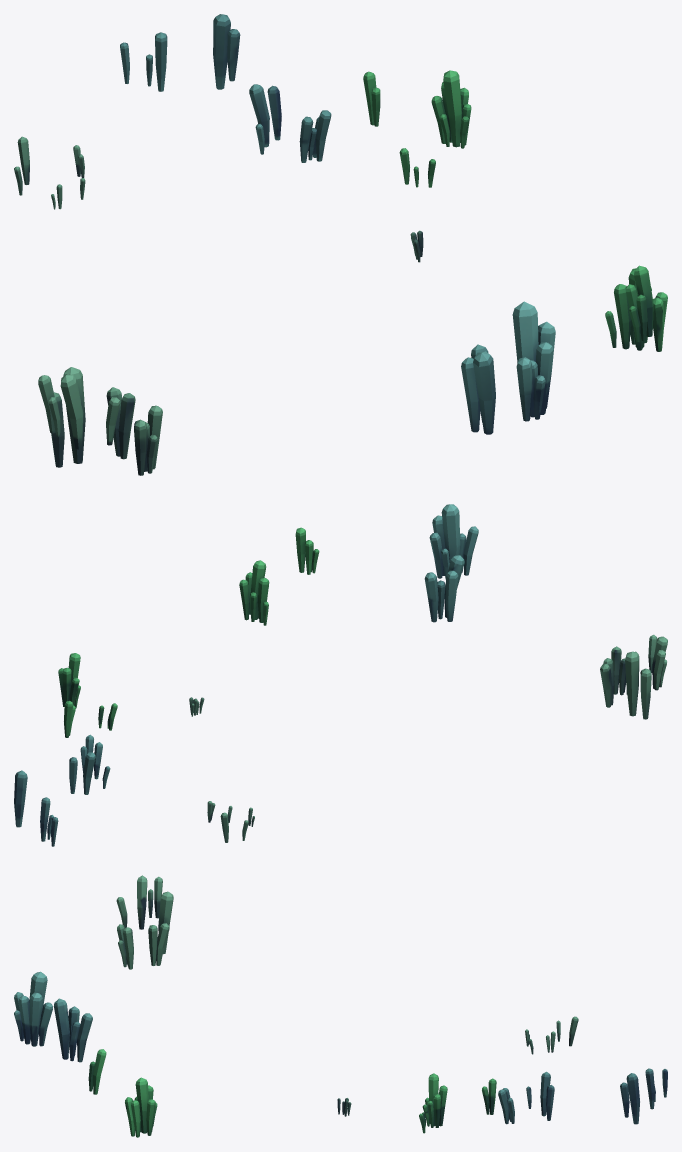
Rendered from Plant_02.FBX.
The picture shows the model from 3 angles, top to bottom: view 1: azimuth 30°, elevation 25°; view 2: azimuth 150°, elevation 25°; view 3: azimuth 270°, elevation 25°; orthographic projection. The views are drawn at different scales.
Visible parts, largest first — view 1: Plant_02; view 2: Plant_02; view 3: Plant_02.
Boxes of the visible parts, box(x1,y1,x2,y2) form: Plant_02: box(14, 14, 667, 475); Plant_02: box(14, 504, 667, 846); Plant_02: box(14, 875, 667, 1137).
Bounding box in the file's own units: 19.81 × 4.66 × 26.72.
